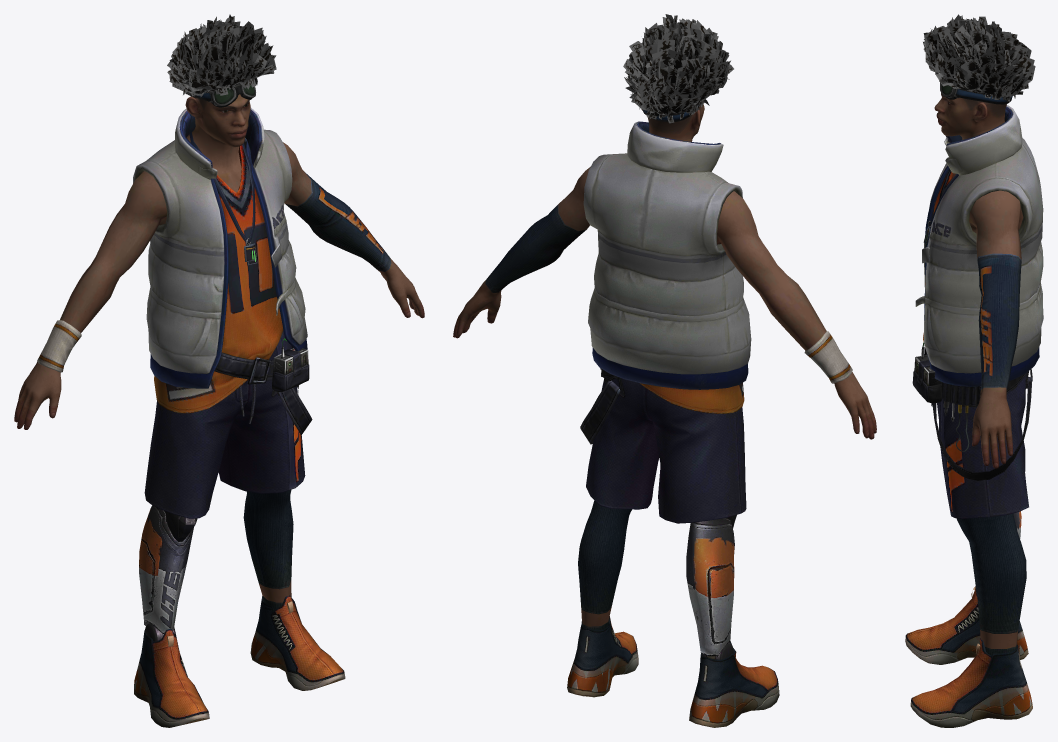
Rendered from leon_free_fire.glb.
The picture shows the model from 3 angles, left to right: view 1: azimuth 30°, elevation 25°; view 2: azimuth 150°, elevation 25°; view 3: azimuth 270°, elevation 25°; orthographic projection.
Parts seen in each view (by area): view 1: Object_3, Object_6, Object_9, Object_8, Object_4, Object_7; view 2: Object_3, Object_6, Object_9, Object_8, Object_4, Object_7; view 3: Object_3, Object_6, Object_8, Object_4, Object_9, Object_7, Object_5.
Part boxes in pixels (x1,y1,x2,y2): Object_3: (37, 107, 391, 435); Object_6: (139, 330, 305, 641); Object_9: (14, 120, 424, 602); Object_8: (134, 595, 345, 727); Object_4: (167, 14, 276, 96); Object_7: (185, 94, 250, 147); Object_3: (485, 121, 852, 444); Object_6: (578, 378, 746, 659); Object_9: (453, 139, 876, 626); Object_8: (567, 616, 779, 727); Object_4: (623, 14, 733, 123); Object_7: (641, 104, 704, 140); Object_3: (912, 105, 1043, 480); Object_6: (931, 372, 1028, 655); Object_8: (905, 586, 1032, 727); Object_4: (923, 14, 1035, 101); Object_9: (952, 120, 1023, 648); Object_7: (934, 93, 1006, 136); Object_5: (939, 81, 1012, 104).
Bounding box in the file's own units: 4.78 × 7.47 × 1.41.
8 materials, 8 textured.
